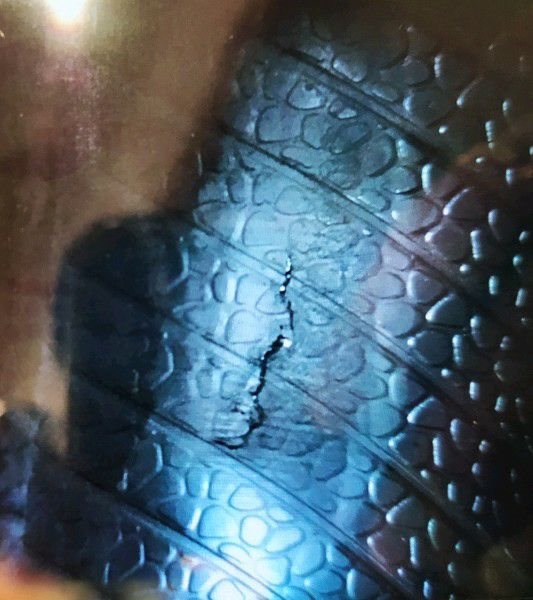CBU: (204, 249, 302, 453)
